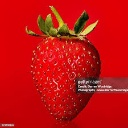strawberry: (24, 14, 105, 122)
